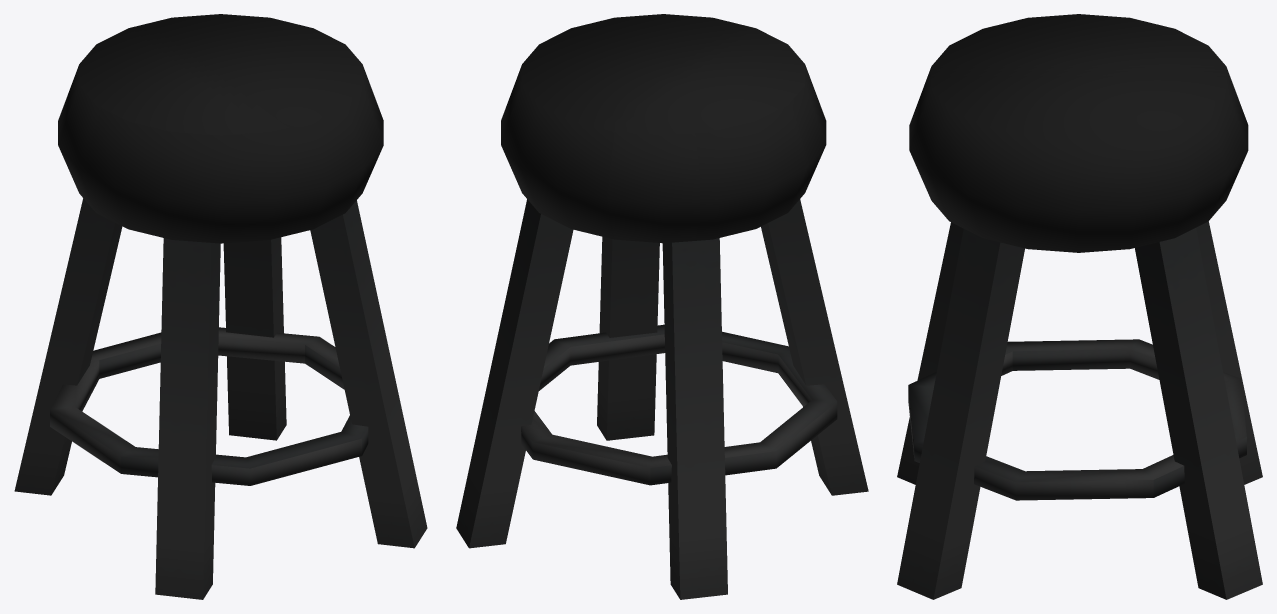
Rendered from Stool_B.FBX.
The picture shows the model from 3 angles, left to right: view 1: azimuth 30°, elevation 25°; view 2: azimuth 150°, elevation 25°; view 3: azimuth 270°, elevation 25°; orthographic projection. The views are drawn at different scales.
Visible parts, largest first — view 1: Stool; view 2: Stool; view 3: Stool.
Part boxes in pixels (x1,y1,x2,y2): Stool: (14, 14, 427, 599); Stool: (456, 14, 868, 599); Stool: (897, 14, 1262, 599).
Bounding box in the file's own units: 117 × 169 × 124.
